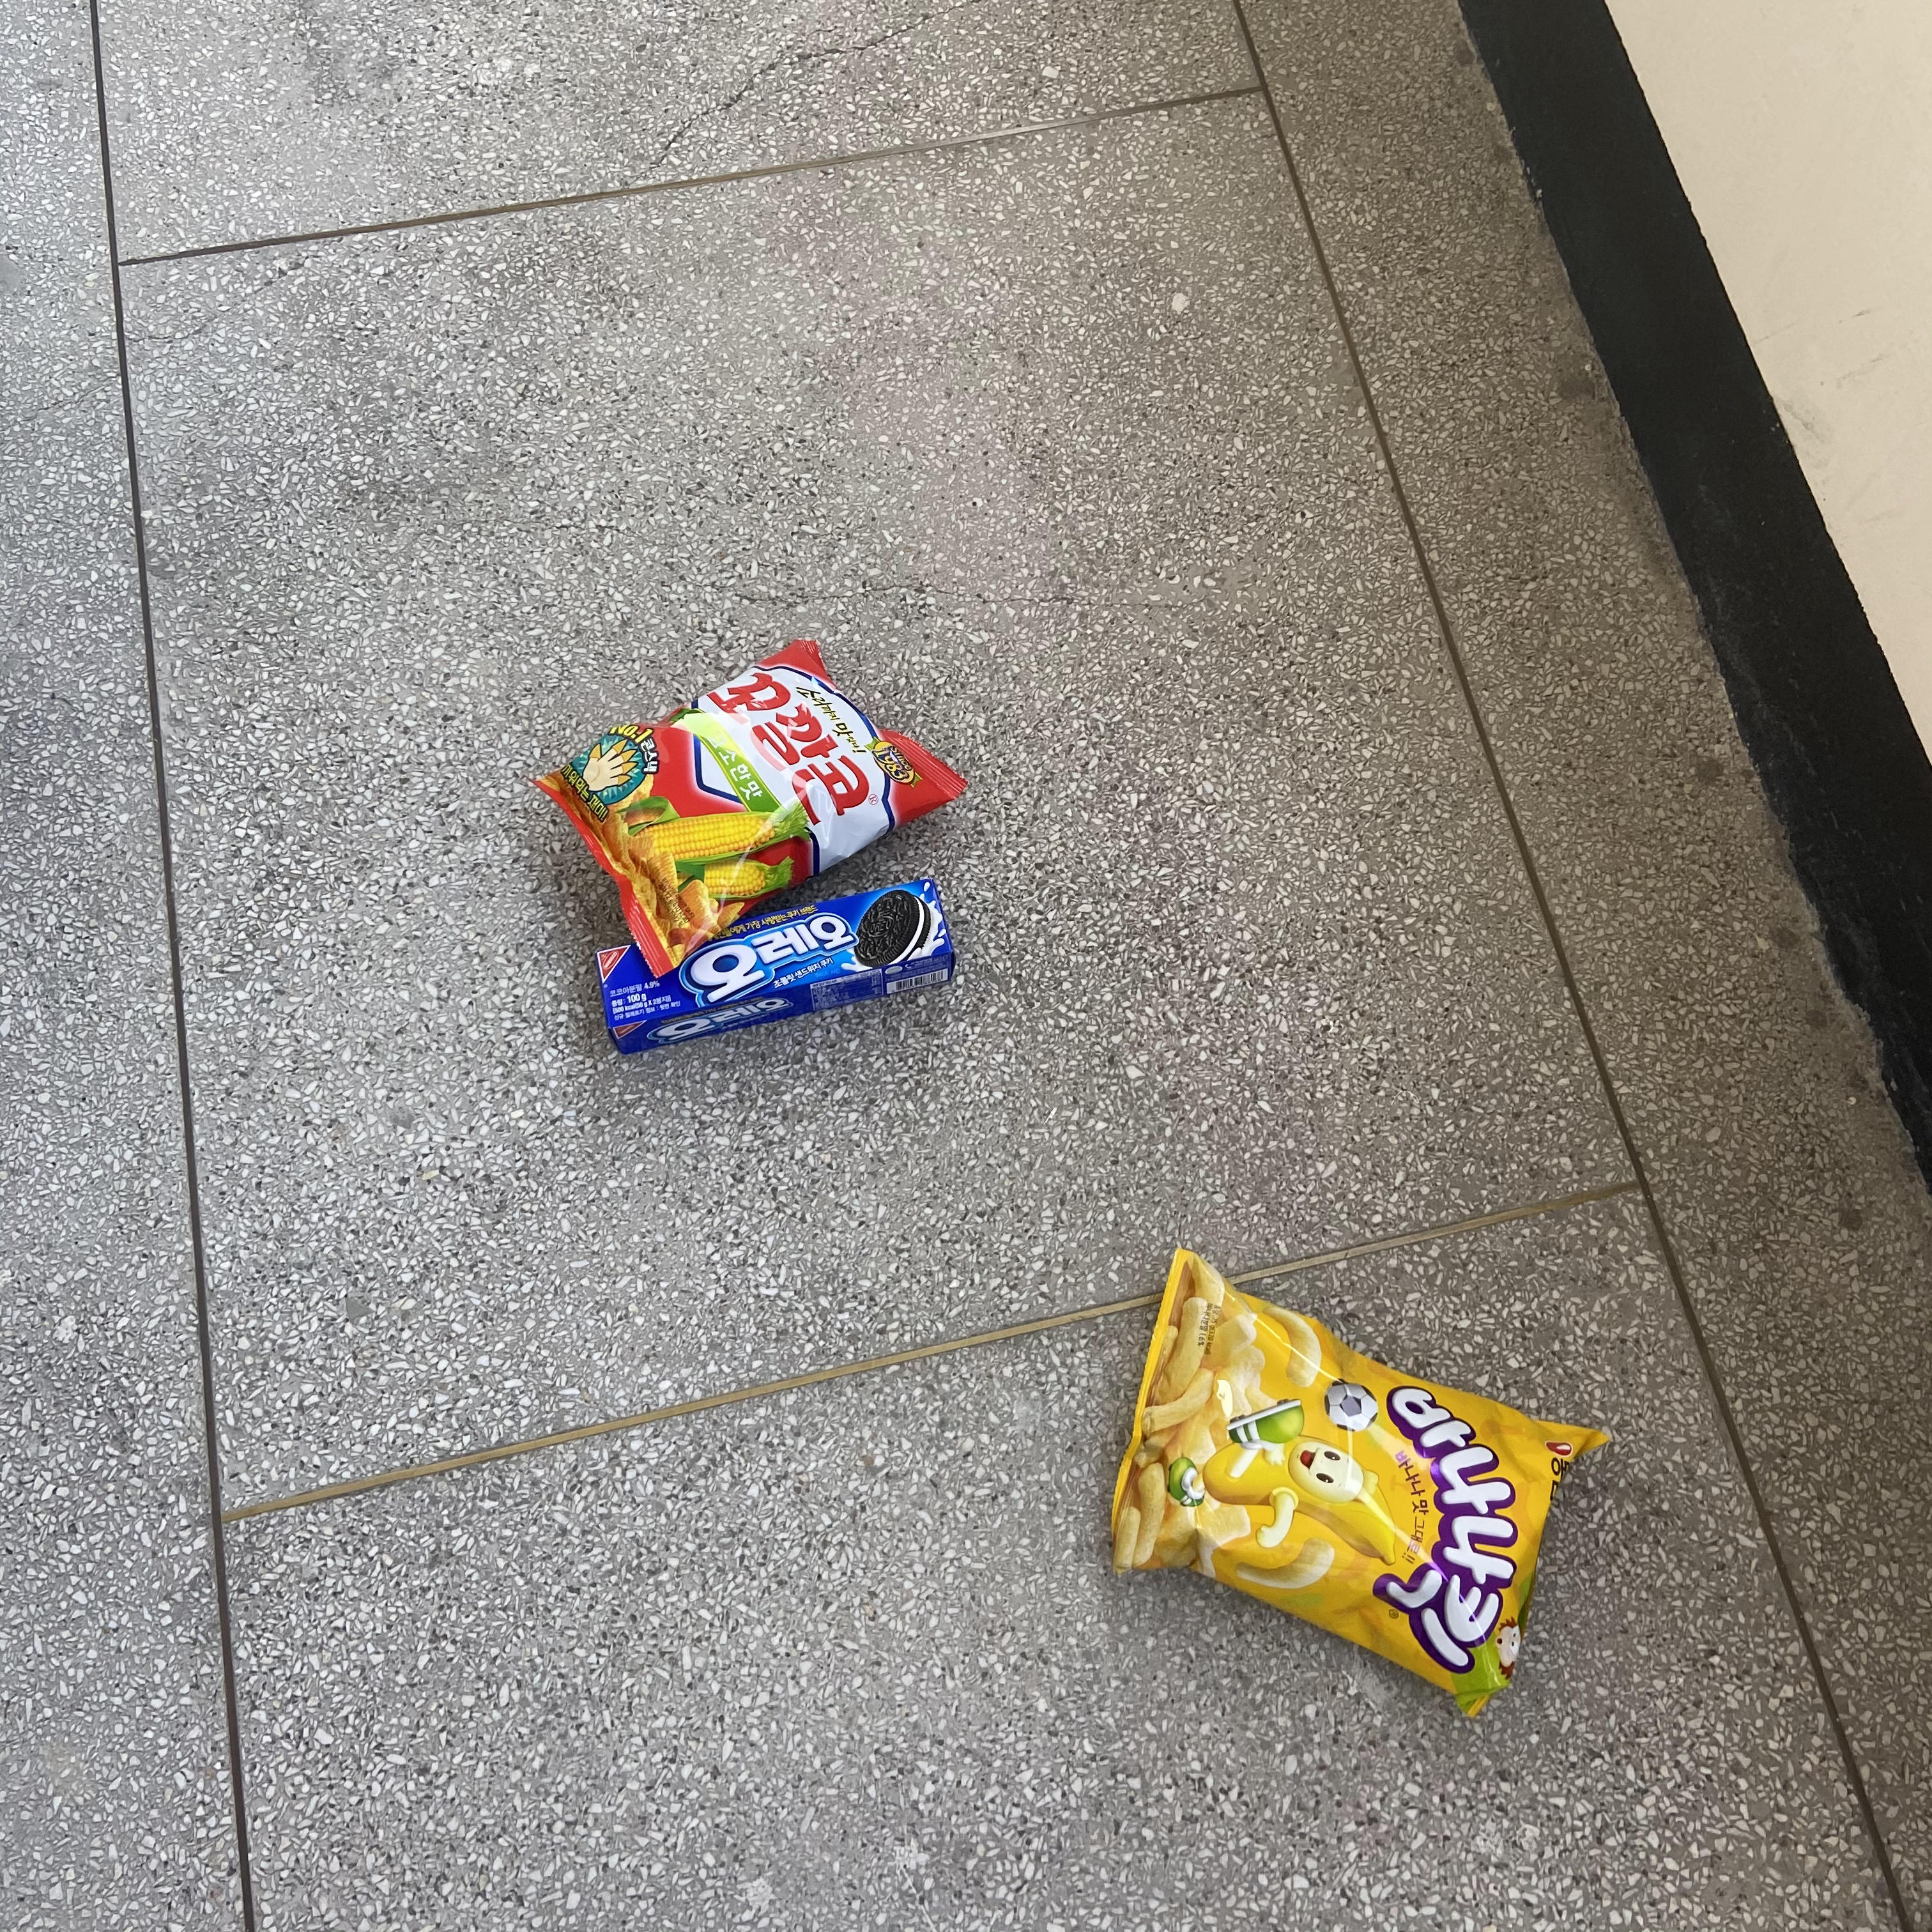banana: (1102, 1242, 1610, 1729)
ggoggalcon: (525, 628, 968, 980)
oreo: (575, 872, 968, 1065)
